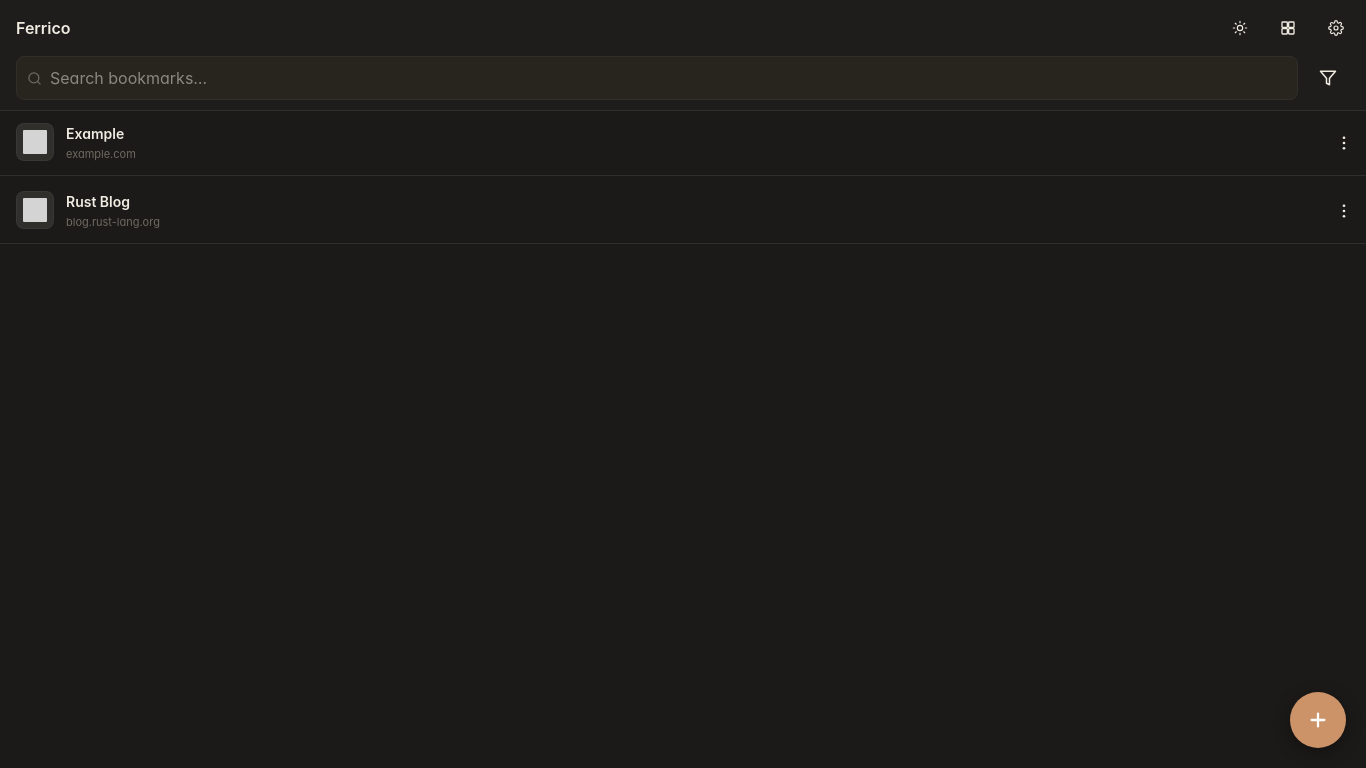
Test: MobileApp shell › refetches with the folder filter when a folder is picked from the FilterDrawer
The width and height of the screenshot is (1366, 768).
Expected: the text "Example" is shown, [66,125,124,142]
Click the button named "Filter by folder or tag" at (1328, 78), box [1306,56,1350,100]
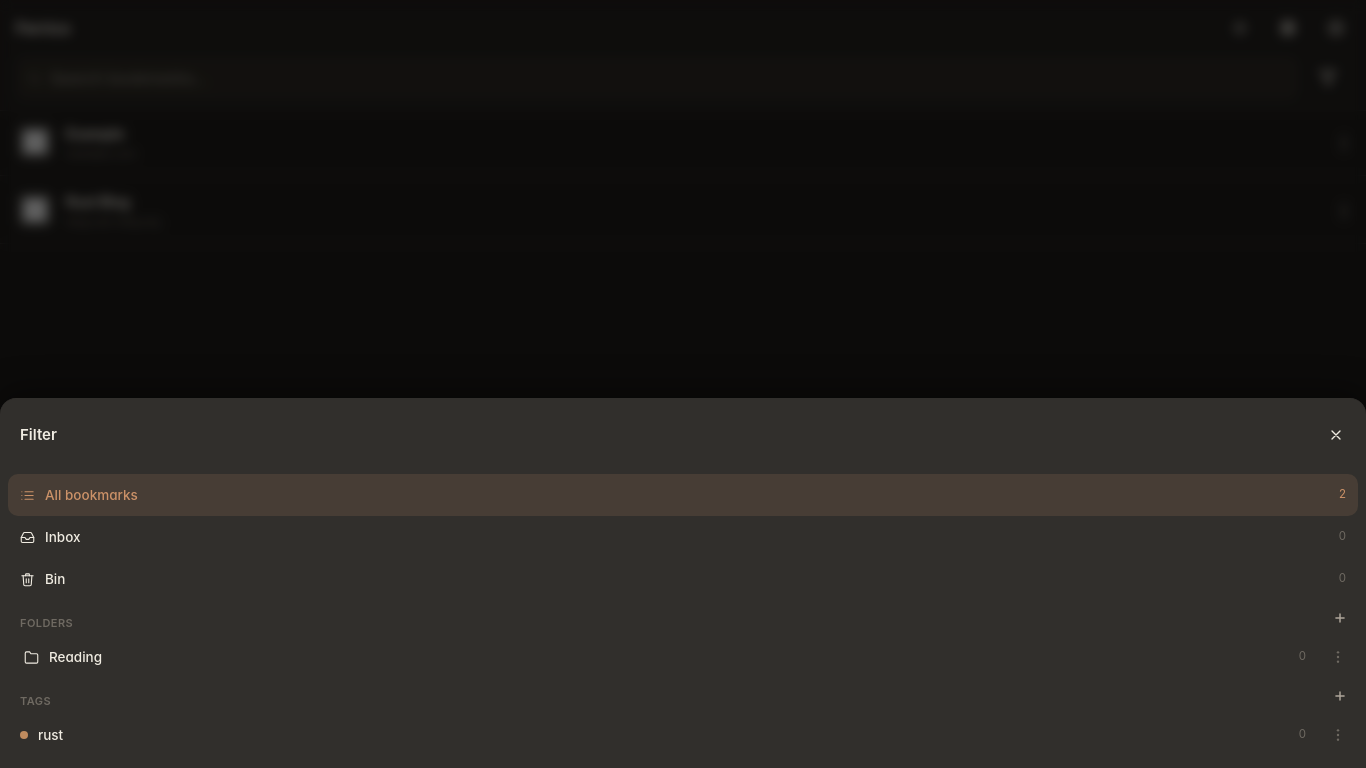
Click the button "Reading 0" at (76, 657), box [8,636,1318,678]
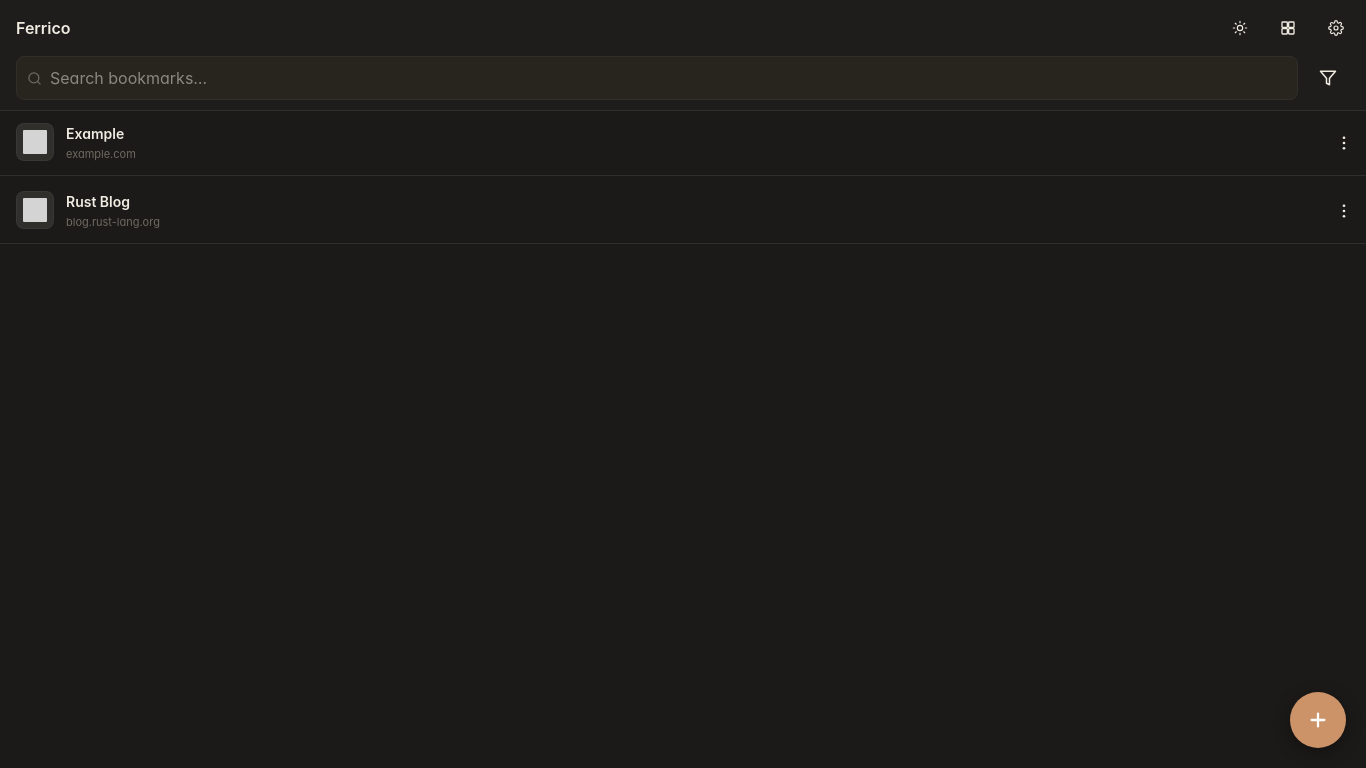
Expected: the dialog is gone
